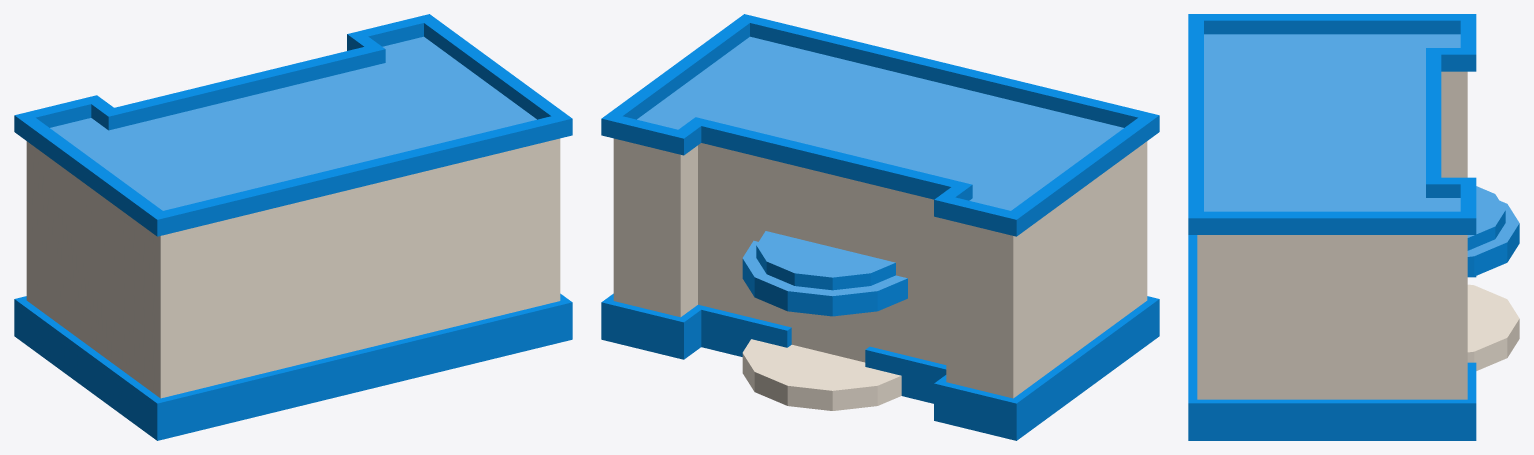
Rendered from Map-Bank-B.fbx.
3 renders of one model, left to right at view 1: azimuth 30°, elevation 25°; view 2: azimuth 150°, elevation 25°; view 3: azimuth 270°, elevation 25°, orthographic.
Visible parts, largest first — view 1: Map-Bank-B; view 2: Map-Bank-B; view 3: Map-Bank-B.
Part boxes in pixels (x1,y1,x2,y2): Map-Bank-B: (14, 14, 572, 440); Map-Bank-B: (601, 14, 1159, 440); Map-Bank-B: (1188, 14, 1519, 440).
Size of the model in its own units: 1.75 by 0.8906 by 1.2.
